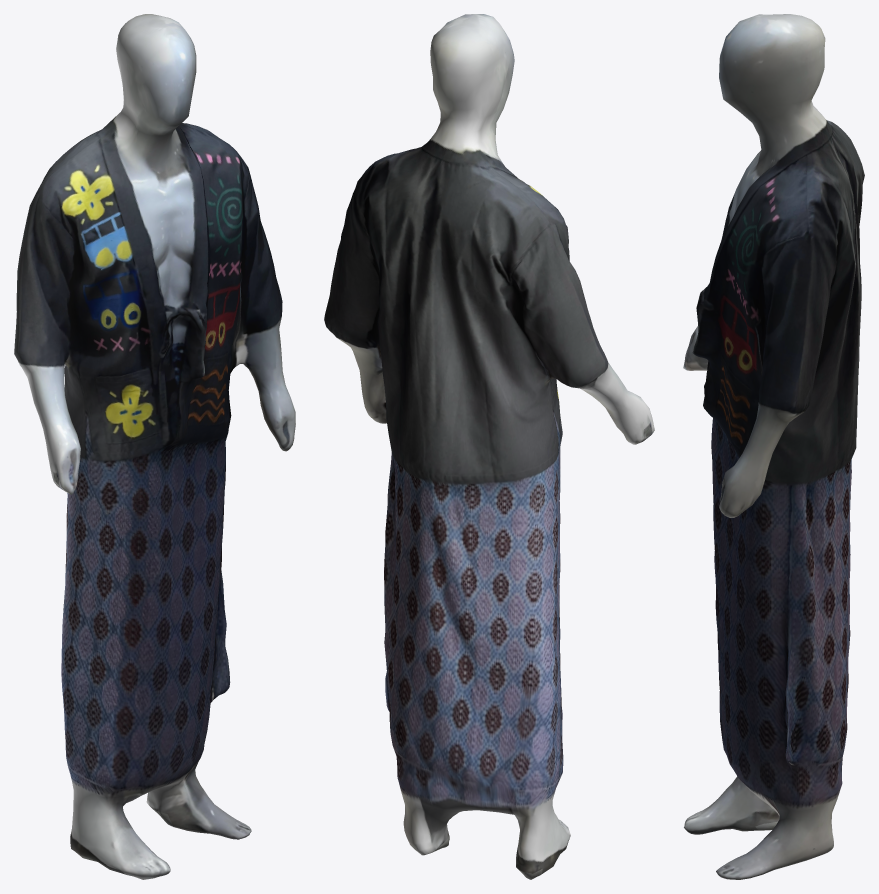
Rendered from Meeta_Fauzan_Difabel_Quais_Aluh_kimono_Abu.glb.
3 views of the same model, side by side, from view 1: azimuth 30°, elevation 25°; view 2: azimuth 150°, elevation 25°; view 3: azimuth 270°, elevation 25° (orthographic). The views are drawn at different scales.
Parts seen in each view (by area): view 1: Aluh kimono Abu - Ver AR; view 2: Aluh kimono Abu - Ver AR; view 3: Aluh kimono Abu - Ver AR.
Part boxes in pixels (x1,y1,x2,y2): Aluh kimono Abu - Ver AR: (14,14,295,879); Aluh kimono Abu - Ver AR: (324,14,654,879); Aluh kimono Abu - Ver AR: (683,14,864,879).
Size of the model in its own units: 0.3462 by 1 by 0.1958.
1 material, 1 textured.
